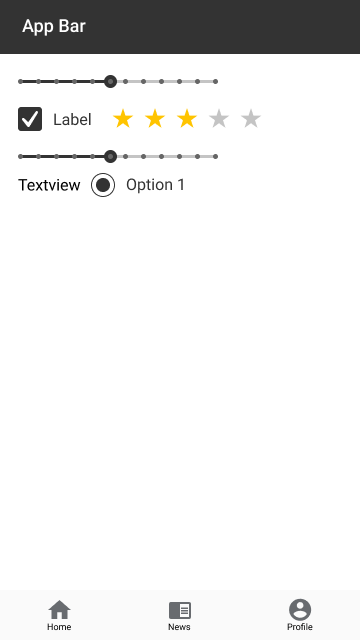checkBox: (16, 105, 95, 134)
navigationButton: (1, 588, 360, 640)
radioButton: (89, 171, 185, 199)
ratingBar: (112, 107, 264, 132)
slider: (14, 73, 221, 89), (15, 149, 221, 163)
textView: (18, 174, 81, 194)
toolbar: (1, 1, 360, 56)
